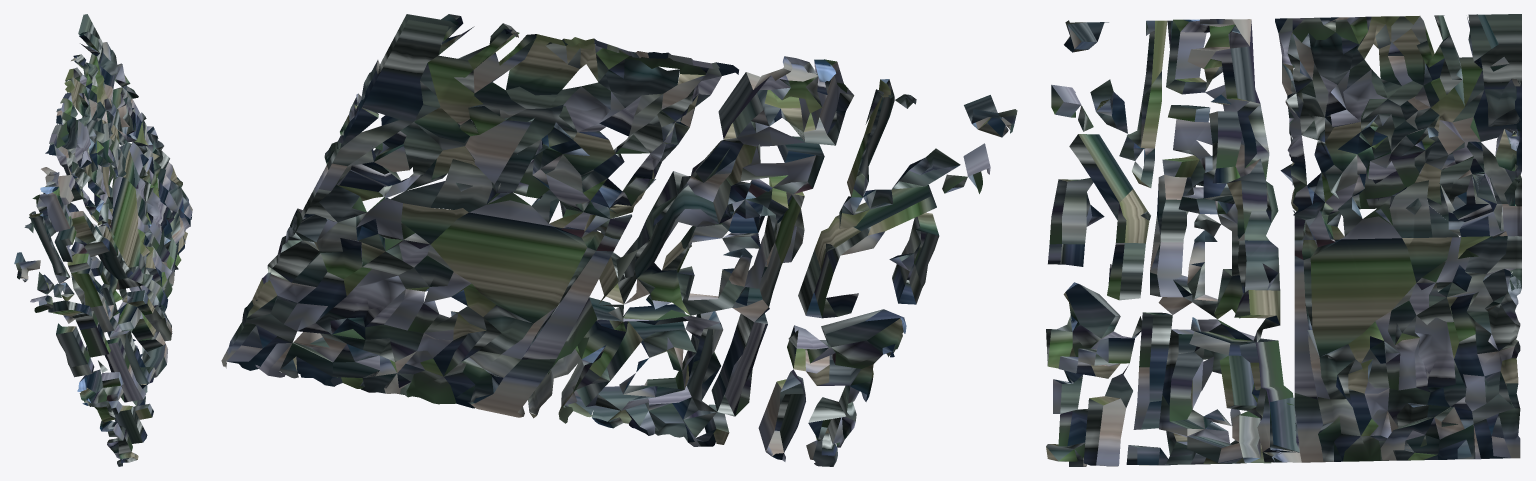
The picture shows the model from 3 angles, left to right: view 1: azimuth 30°, elevation 25°; view 2: azimuth 150°, elevation 25°; view 3: azimuth 270°, elevation 25°; orthographic projection. The views are drawn at different scales.
Visible parts, largest first — view 1: node_3043627270436171_mesh0, node_3043627270436171_mesh1; view 2: node_3043627270436171_mesh0, node_3043627270436171_mesh1; view 3: node_3043627270436171_mesh0, node_3043627270436171_mesh1.
Boxes of the visible parts, x1,y1,x2,y2 form: node_3043627270436171_mesh0: (18,14,192,466); node_3043627270436171_mesh1: (14,87,188,453); node_3043627270436171_mesh0: (221,14,1011,466); node_3043627270436171_mesh1: (242,38,1017,439); node_3043627270436171_mesh0: (1046,14,1521,466); node_3043627270436171_mesh1: (1048,16,1521,464).
Bounding box in the file's own units: 576 × 581 × 467.
Materials: 2 (2 with a texture image).
